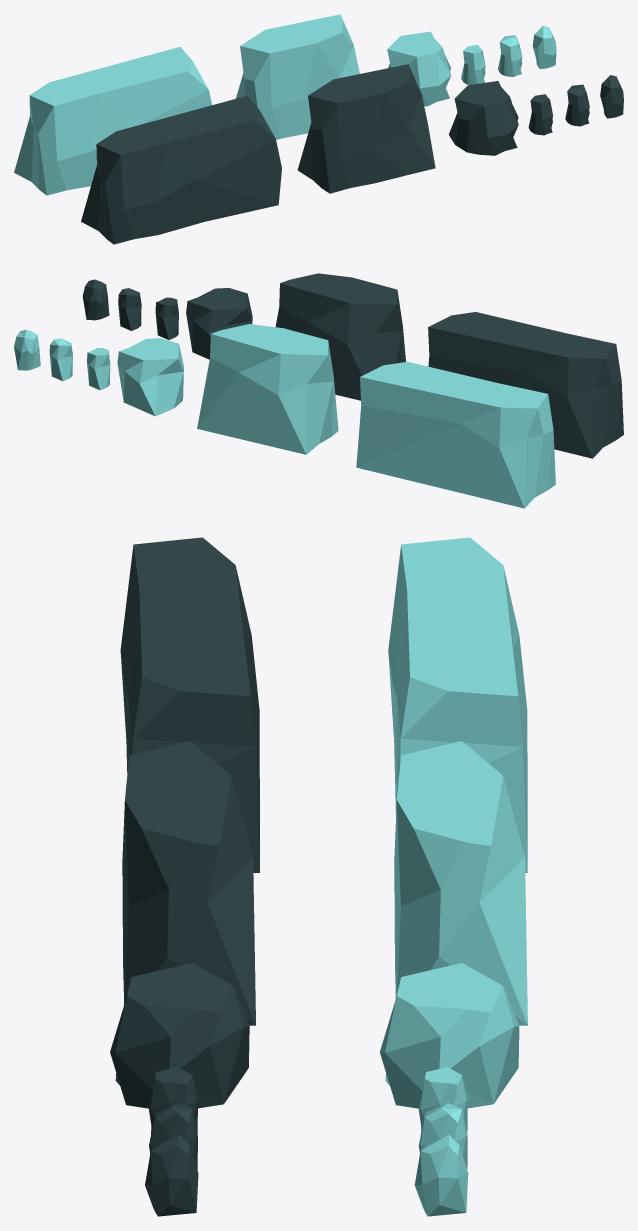
File: IceRocks.fbx
The picture shows the model from 3 angles, top to bottom: view 1: azimuth 30°, elevation 25°; view 2: azimuth 150°, elevation 25°; view 3: azimuth 270°, elevation 25°; orthographic projection. The views are drawn at different scales.
Visible parts, largest first — view 1: IceRockBig2.001, IceRockBig2, IceRockBig1.001, IceRockBig1, RockMedium, IceRockMedium, Rock2, IceRock2, Rock3, IceRock1, Rock1, IceRock3; view 2: IceRockBig2, IceRockBig2.001, IceRockBig1, IceRockBig1.001, IceRockMedium, RockMedium, IceRock1, Rock1, Rock2, Rock3, IceRock2, IceRock3; view 3: IceRockBig1, IceRockBig1.001, IceRockBig2.001, IceRockBig2, IceRockMedium, RockMedium, IceRock1, Rock1, IceRock3, Rock3, IceRock2, Rock2.
Boxes of the visible parts, left/top/right/bottom form: IceRockBig2.001: left=81, top=96, right=281, bottom=244; IceRockBig2: left=14, top=47, right=211, bottom=195; IceRockBig1.001: left=297, top=64, right=435, bottom=193; IceRockBig1: left=236, top=14, right=359, bottom=139; RockMedium: left=448, top=81, right=518, bottom=155; IceRockMedium: left=387, top=31, right=451, bottom=106; Rock2: left=565, top=84, right=589, bottom=126; IceRock2: left=498, top=35, right=522, bottom=76; Rock3: left=528, top=94, right=552, bottom=135; IceRock1: left=532, top=25, right=556, bottom=69; Rock1: left=600, top=75, right=623, bottom=118; IceRock3: left=461, top=44, right=485, bottom=84; IceRockBig2: left=356, top=361, right=555, bottom=508; IceRockBig2.001: left=428, top=312, right=623, bottom=458; IceRockBig1: left=197, top=324, right=338, bottom=454; IceRockBig1.001: left=275, top=273, right=405, bottom=400; IceRockMedium: left=117, top=338, right=183, bottom=416; RockMedium: left=186, top=288, right=252, bottom=359; IceRock1: left=14, top=329, right=40, bottom=370; Rock1: left=82, top=279, right=109, bottom=320; Rock2: left=118, top=288, right=141, bottom=330; Rock3: left=155, top=297, right=178, bottom=339; IceRock2: left=49, top=338, right=72, bottom=381; IceRock3: left=87, top=348, right=110, bottom=390; IceRockBig1: left=394, top=741, right=527, bottom=1025; IceRockBig1.001: left=122, top=741, right=255, bottom=1025; IceRockBig2.001: left=120, top=537, right=259, bottom=872; IceRockBig2: left=388, top=537, right=527, bottom=872; IceRockMedium: left=380, top=963, right=519, bottom=1108; RockMedium: left=110, top=963, right=249, bottom=1108; IceRock1: left=414, top=1134, right=468, bottom=1216; Rock1: left=145, top=1134, right=198, bottom=1216; IceRock3: left=418, top=1067, right=467, bottom=1134; Rock3: left=149, top=1067, right=197, bottom=1134; IceRock2: left=418, top=1103, right=467, bottom=1169; Rock2: left=149, top=1103, right=197, bottom=1169.
Size of the model in its own units: 5326 by 858 by 1848.
